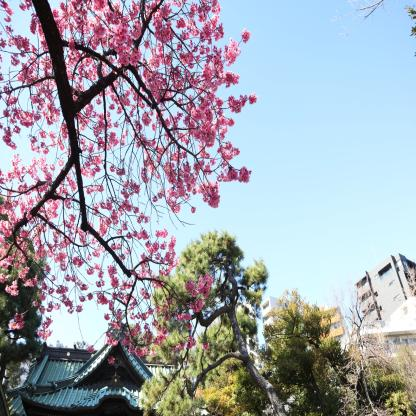KanhiSakura: (0, 0, 259, 356)
